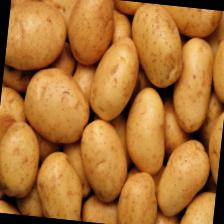potato: (19, 63, 95, 147), (74, 116, 134, 205), (87, 32, 143, 124), (168, 34, 218, 136), (154, 136, 214, 220), (4, 0, 69, 75), (121, 84, 172, 176), (125, 23, 187, 91), (33, 148, 87, 222), (64, 0, 117, 68), (0, 118, 43, 200), (115, 168, 162, 224)
